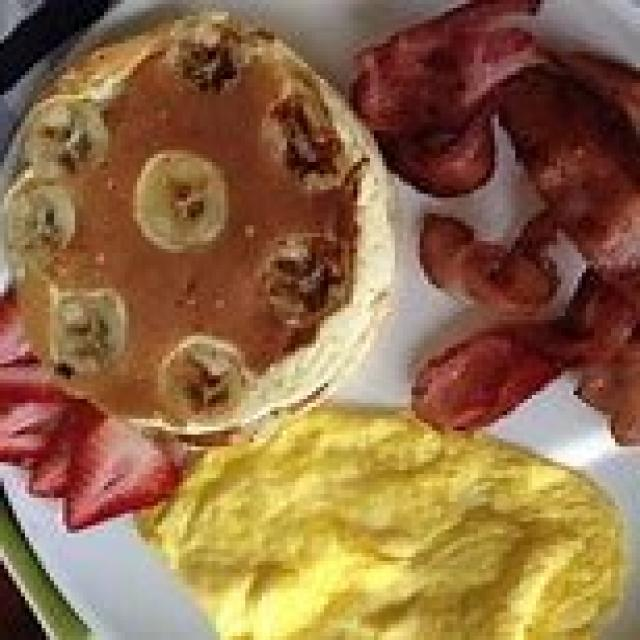Omelette: (146, 399, 632, 636)
Pancakes: (4, 8, 403, 434)
